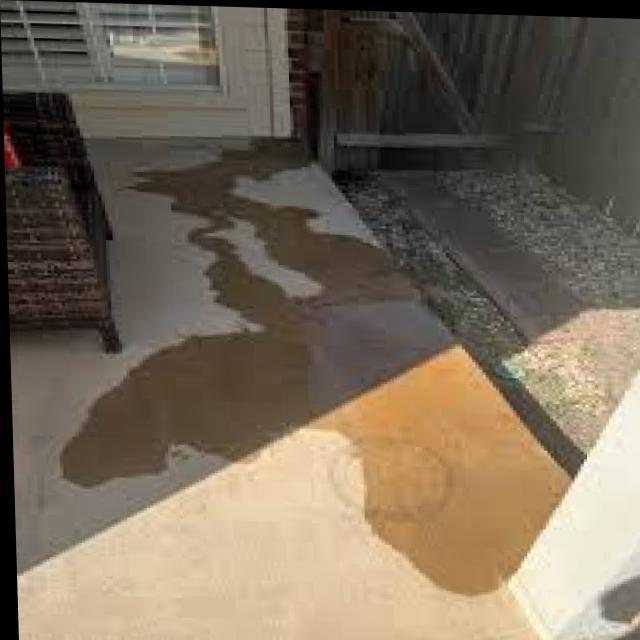water accumulation: (54, 134, 600, 596)
